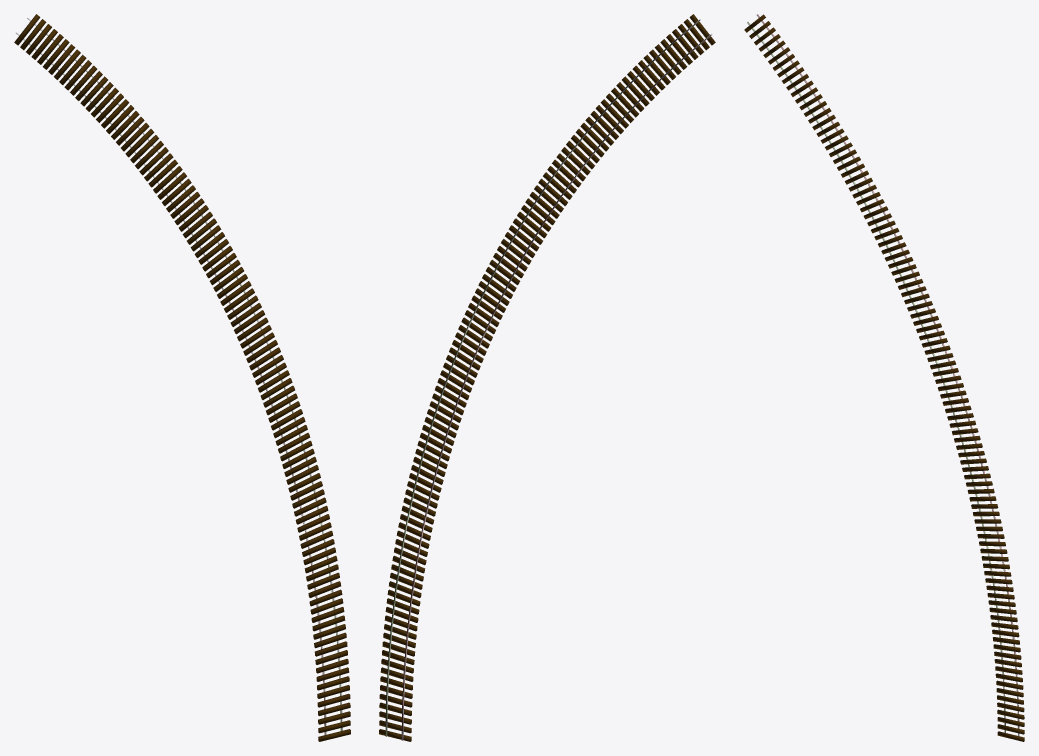
Rendered from Rails_80m_45d.fbx.
The picture shows the model from 3 angles, left to right: view 1: azimuth 30°, elevation 25°; view 2: azimuth 150°, elevation 25°; view 3: azimuth 330°, elevation 25°; orthographic projection. The views are drawn at different scales.
Visible parts, largest first — view 1: LP_Rails_80m_45d; view 2: LP_Rails_80m_45d; view 3: LP_Rails_80m_45d.
Part boxes in pixels (<box>): LP_Rails_80m_45d: <box>14,14,350,741</box>; LP_Rails_80m_45d: <box>379,14,715,741</box>; LP_Rails_80m_45d: <box>744,14,1024,741</box>.
Size of the model in its own units: 32.12 by 72.8 by 0.34.
